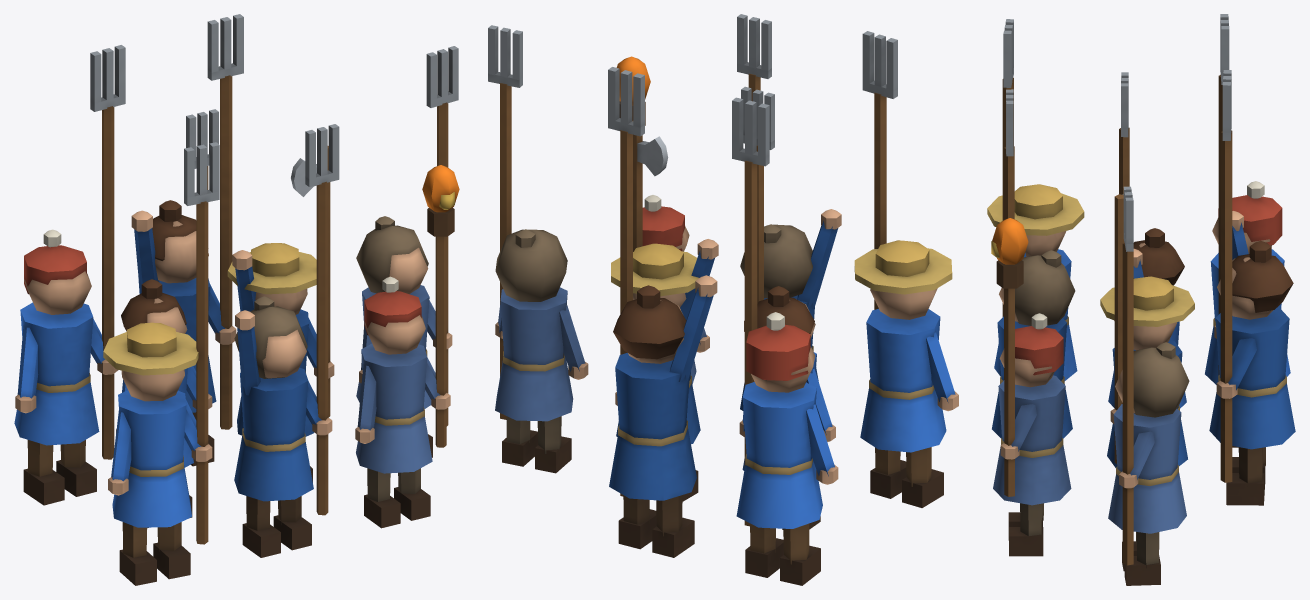
File: squad_dl1_blue.glb
The picture shows the model from 3 angles, left to right: view 1: azimuth 30°, elevation 25°; view 2: azimuth 150°, elevation 25°; view 3: azimuth 270°, elevation 25°; orthographic projection. The views are drawn at different scales.
Visible parts, largest first — view 1: squad_dl1_blue; view 2: squad_dl1_blue; view 3: squad_dl1_blue.
Boxes of the visible parts, bbox=[...] form: squad_dl1_blue: bbox=[14, 14, 459, 585]; squad_dl1_blue: bbox=[488, 14, 958, 585]; squad_dl1_blue: bbox=[987, 14, 1295, 585].
Size of the model in its own units: 0.6647 by 0.6989 by 0.451.
Materials: 1 (1 with a texture image).
